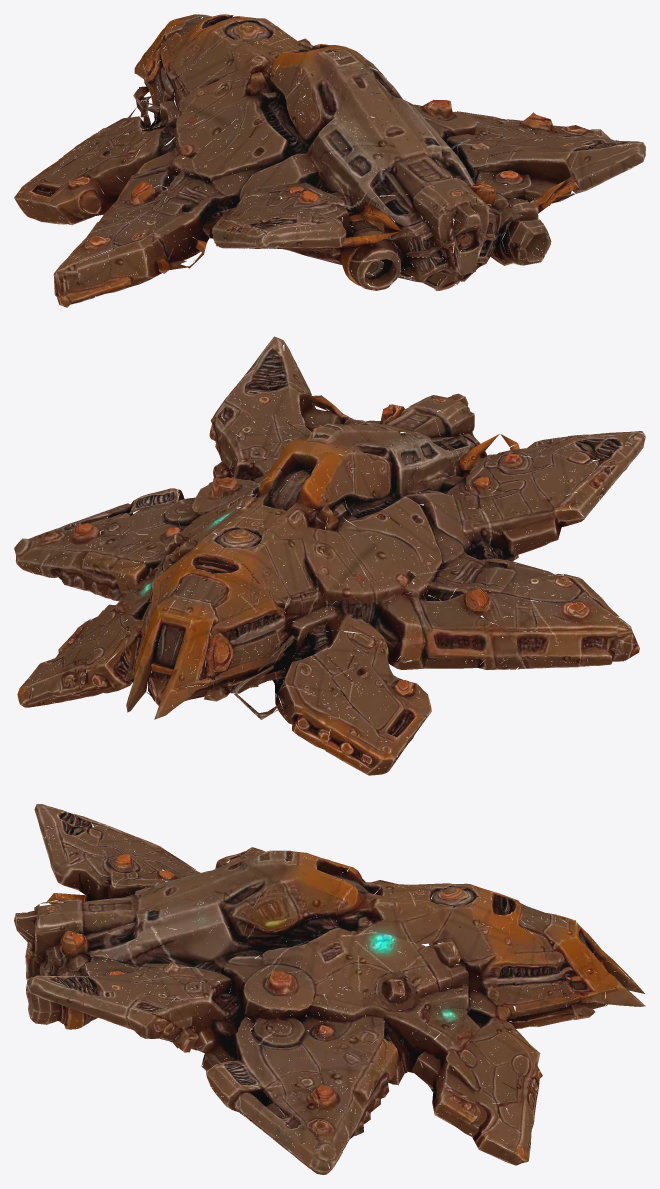
The model's file is enemy_interceptor.glb.
The picture shows the model from 3 angles, top to bottom: view 1: azimuth 30°, elevation 25°; view 2: azimuth 150°, elevation 25°; view 3: azimuth 270°, elevation 25°; orthographic projection. The views are drawn at different scales.
Visible parts, largest first — view 1: tripo_node_a0b247aa-0b7c-49c7-9822-364fcb9ac0b7; view 2: tripo_node_a0b247aa-0b7c-49c7-9822-364fcb9ac0b7; view 3: tripo_node_a0b247aa-0b7c-49c7-9822-364fcb9ac0b7.
Part boxes in pixels (x1,y1,x2,y2): tripo_node_a0b247aa-0b7c-49c7-9822-364fcb9ac0b7: [14, 14, 645, 307]; tripo_node_a0b247aa-0b7c-49c7-9822-364fcb9ac0b7: [14, 336, 645, 775]; tripo_node_a0b247aa-0b7c-49c7-9822-364fcb9ac0b7: [14, 804, 645, 1174].
Bounding box in the file's own units: 0.9946 × 0.3713 × 0.9464.
Materials: 1 (1 with a texture image).
